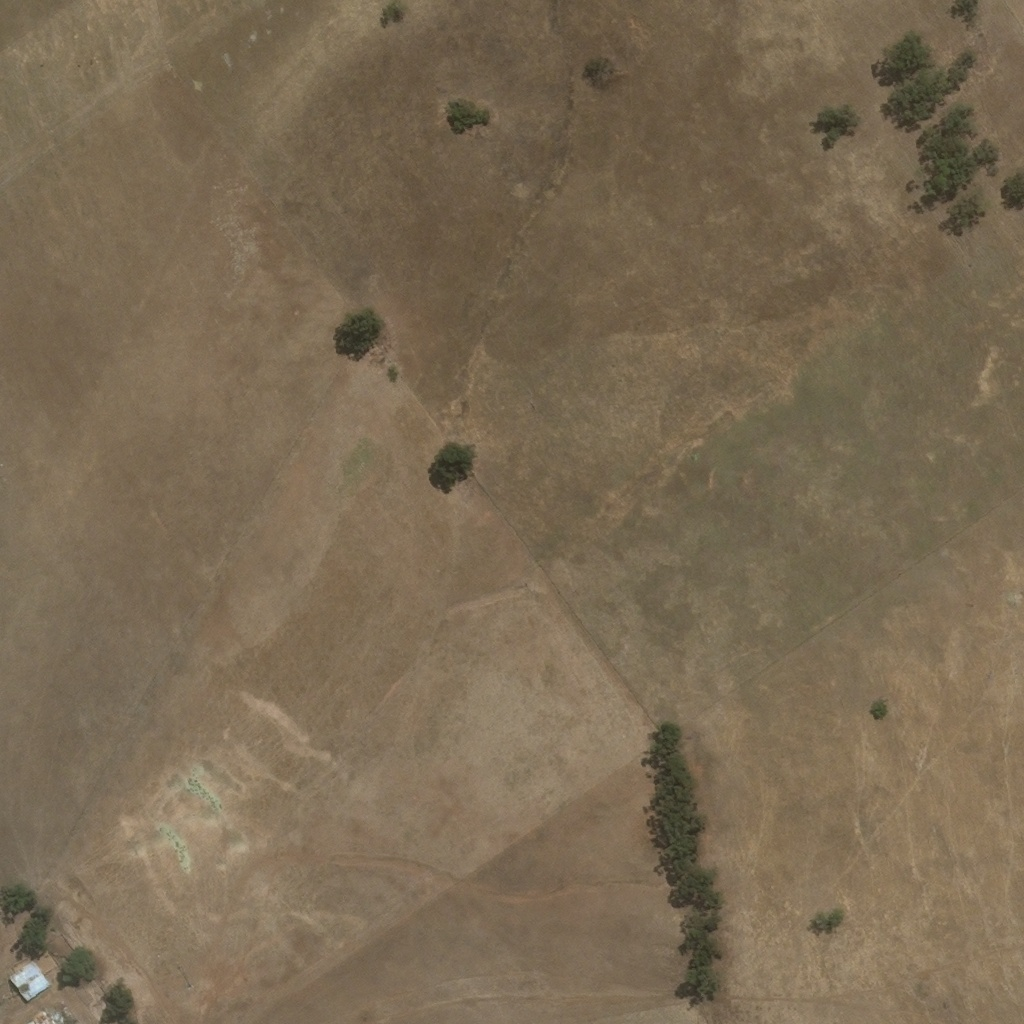0 no-damage: (4, 959, 49, 1003)
4 un-classified: (31, 1012, 62, 1023)
